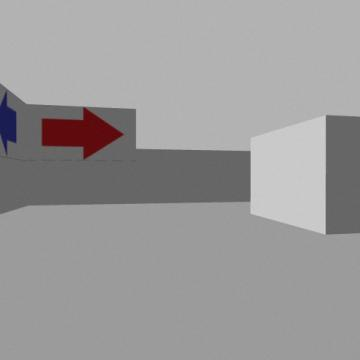blue_left: (0, 91, 16, 154)
red_left: (42, 107, 123, 158)
